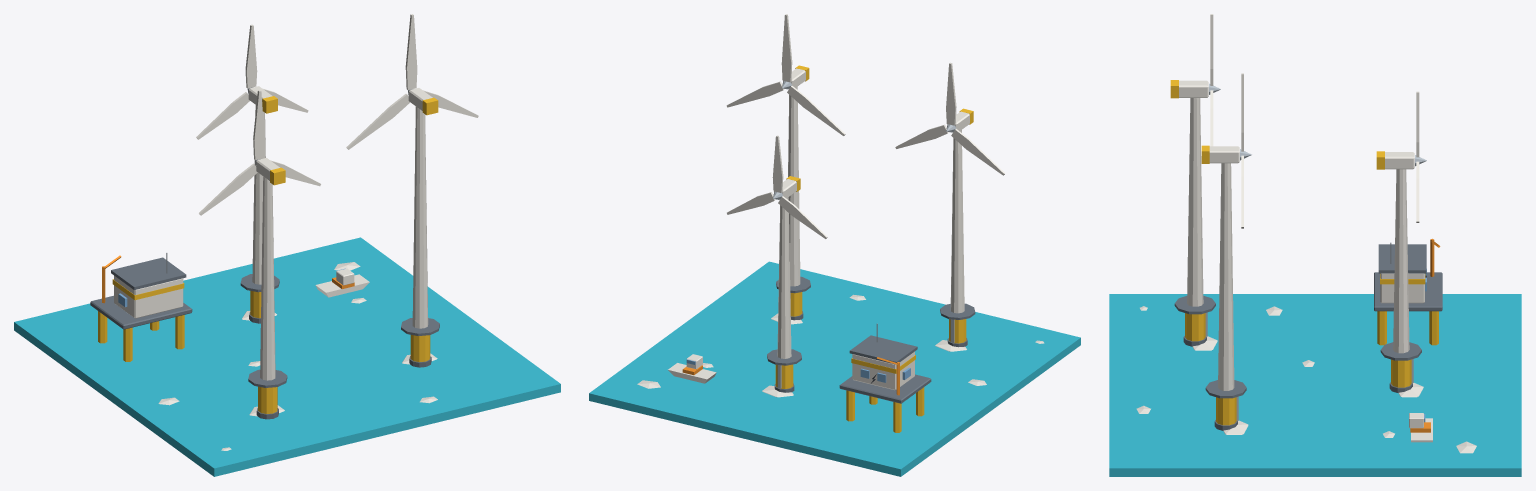
Rendered from wind_offshore.glb.
3 views of the same model, side by side, from view 1: azimuth 30°, elevation 25°; view 2: azimuth 150°, elevation 25°; view 3: azimuth 270°, elevation 25° (orthographic). The views are drawn at different scales.
Visible parts, largest first — view 1: corpo, pas_1.001, pas_2.001, pas_3.001; view 2: corpo, pas_1.001, pas_2.001, pas_3.001; view 3: corpo, pas_2.001, pas_3.001, pas_1.001.
Part boxes in pixels (x1=…): corpo: x1=14, y1=86, x2=560, y2=476; pas_1.001: x1=346, y1=14, x2=478, y2=149; pas_2.001: x1=199, y1=90, x2=320, y2=215; pas_3.001: x1=196, y1=24, x2=308, y2=139; corpo: x1=589, y1=65, x2=1080, y2=476; pas_1.001: x1=726, y1=14, x2=845, y2=135; pas_2.001: x1=895, y1=62, x2=1005, y2=175; pas_3.001: x1=727, y1=135, x2=827, y2=238; corpo: x1=1109, y1=80, x2=1521, y2=476; pas_2.001: x1=1209, y1=14, x2=1220, y2=146; pas_3.001: x1=1415, y1=91, x2=1426, y2=222; pas_1.001: x1=1240, y1=73, x2=1251, y2=228.
Bounding box in the file's own units: 6 × 5.8 × 6.
